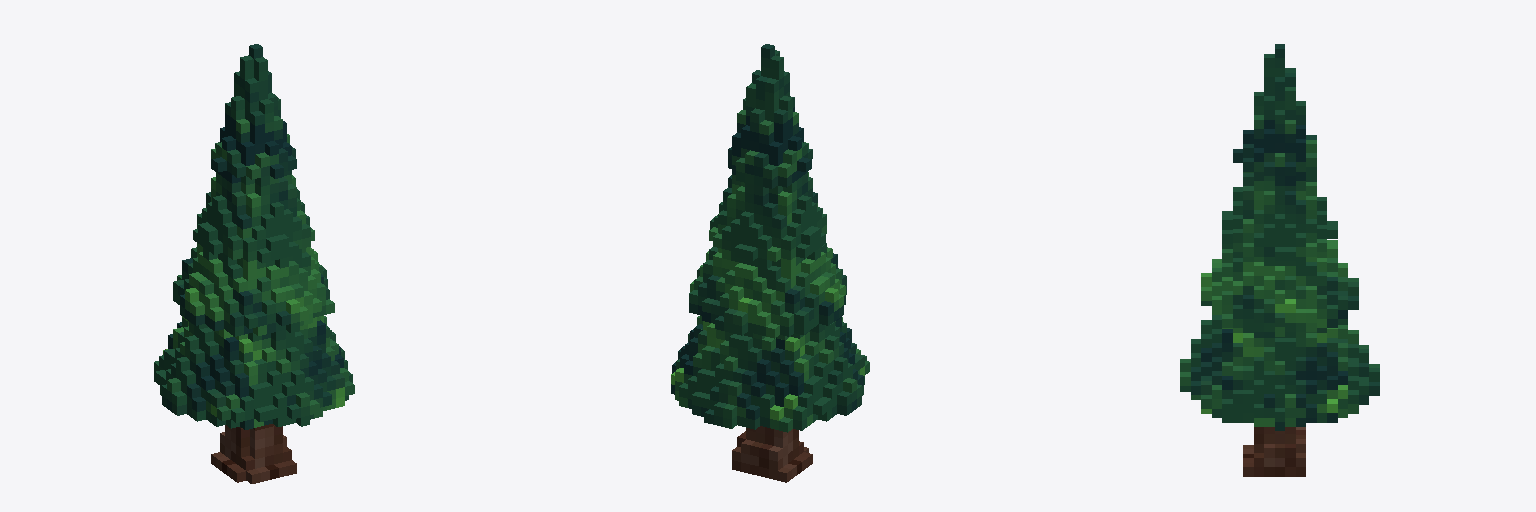
The picture shows the model from 3 angles: view 1: azimuth 30°, elevation 25°; view 2: azimuth 150°, elevation 25°; view 3: azimuth 270°, elevation 25°; orthographic projection.
Parts seen in each view (by area): view 1: Conifer5; view 2: Conifer5; view 3: Conifer5.
Boxes of the visible parts, box(x1,y1,x2,y2) form: Conifer5: box(154, 44, 354, 483); Conifer5: box(671, 44, 869, 482); Conifer5: box(1180, 44, 1379, 476).
Size of the model in its own units: 1.9 by 4.4 by 1.9.
1 materials, 1 textured.